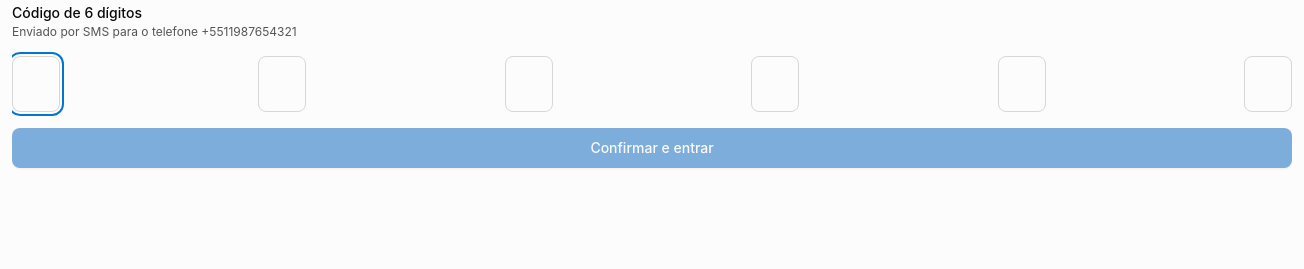
Scenario: VerificarOtpForm (Integração de Tela) › IT-08: Bloqueio por Tentativas Excedidas (HTTP 429)
This screenshot has width=1304, height=269.
Type keys "999999"
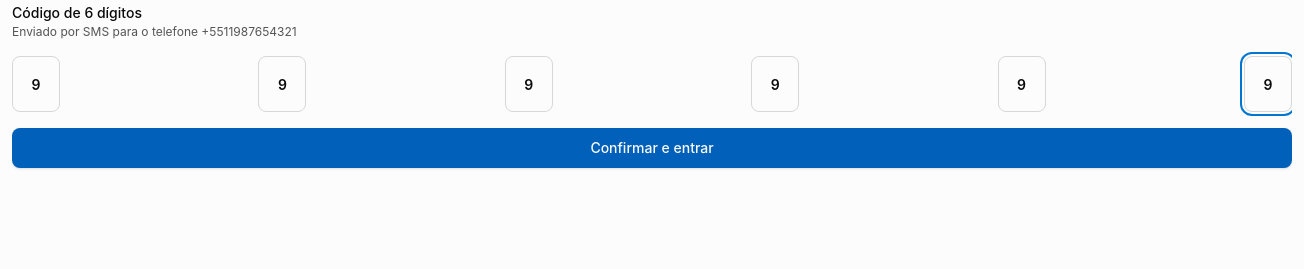
Click the button "Confirmar e entrar".
click(652, 148)  # box [12,128,1292,168]
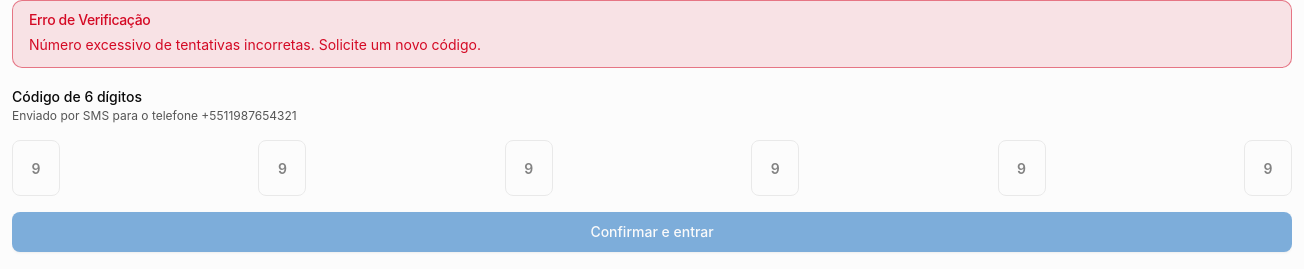
Now the text "Número excessivo de tentativas incorretas. Solicite um novo código." is shown, box [29,35,481,55]
Now the field labelled "Código de 6 dígitos" is disabled, box [12,140,60,196]
Now the button "Confirmar e entrar" is disabled, box [12,212,1292,252]
